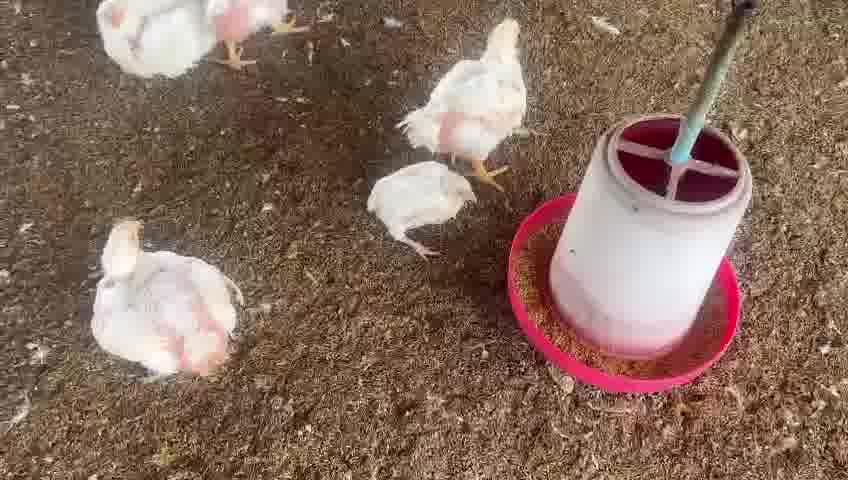AbNormal: (370, 162, 480, 258)
Normal: (90, 210, 251, 384), (395, 16, 548, 186), (81, 0, 245, 90)
